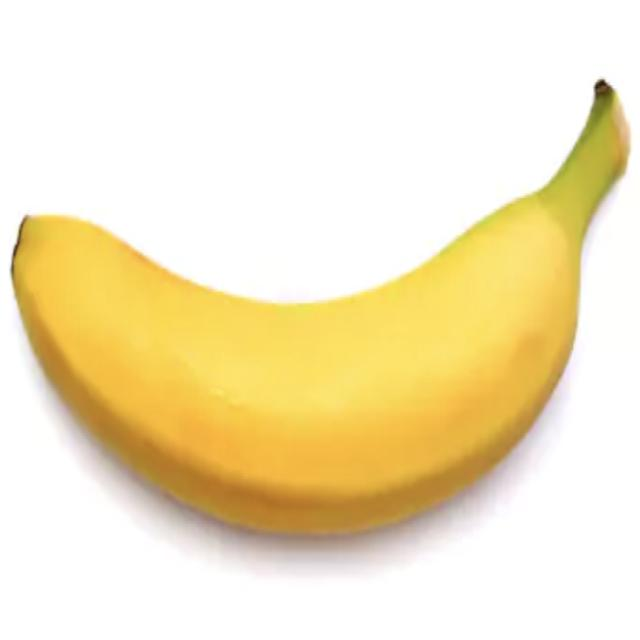fresh-banana: (10, 76, 631, 536)
